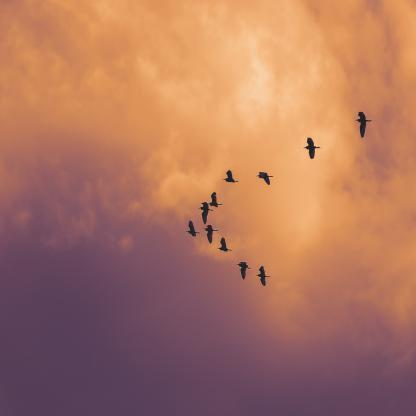bird: (355, 112, 372, 137), (304, 136, 320, 159), (201, 202, 215, 224), (256, 265, 270, 286), (205, 224, 218, 243), (237, 262, 252, 278), (210, 191, 223, 207), (218, 237, 232, 251), (186, 221, 199, 236), (257, 172, 273, 184), (224, 170, 238, 182)
